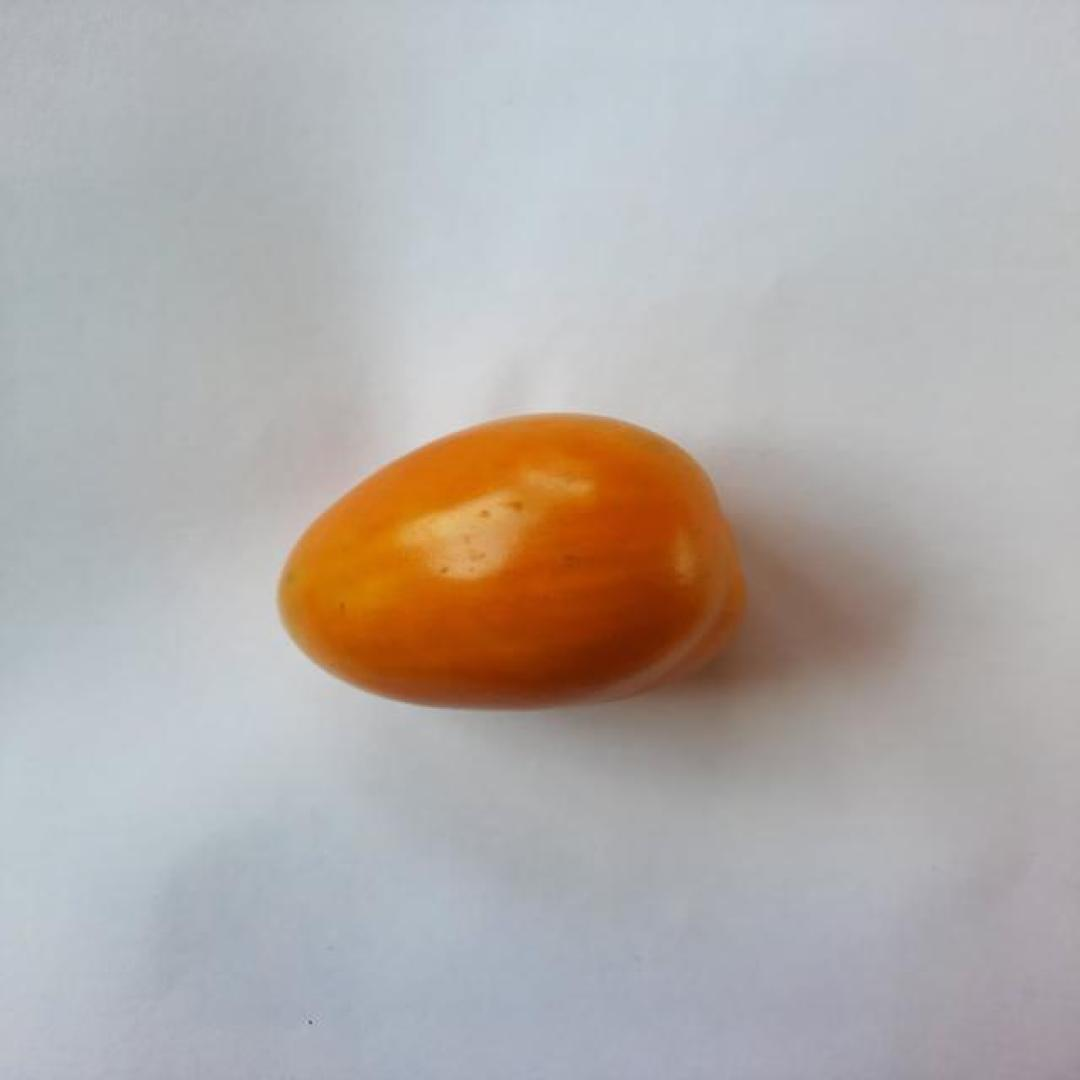setengah_matang: (275, 410, 748, 714)
